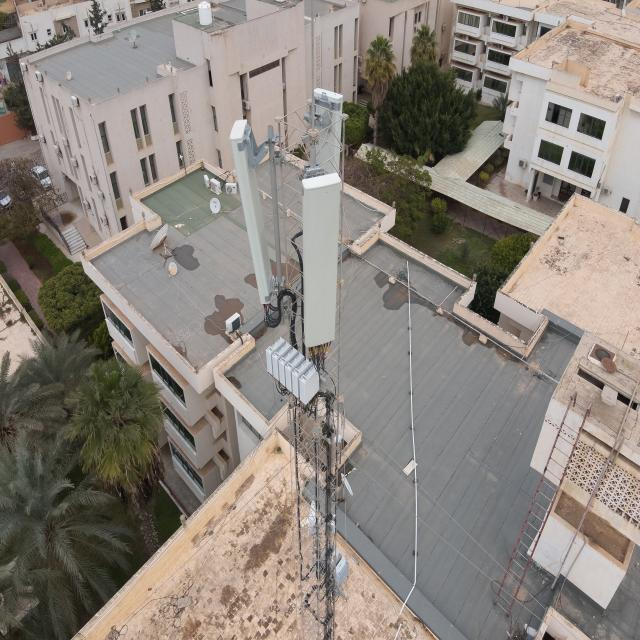antenna: (230, 109, 288, 307), (296, 166, 352, 350), (298, 78, 348, 282)
lighnig-rad: (308, 0, 318, 131)
microware-dish: (304, 492, 340, 540)
power-box: (319, 538, 353, 588)
radio-unit: (264, 328, 322, 406)
